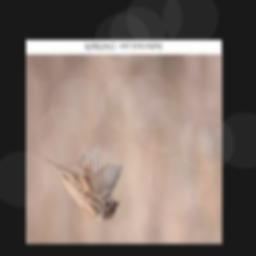Sparrow: (44, 146, 123, 222)
